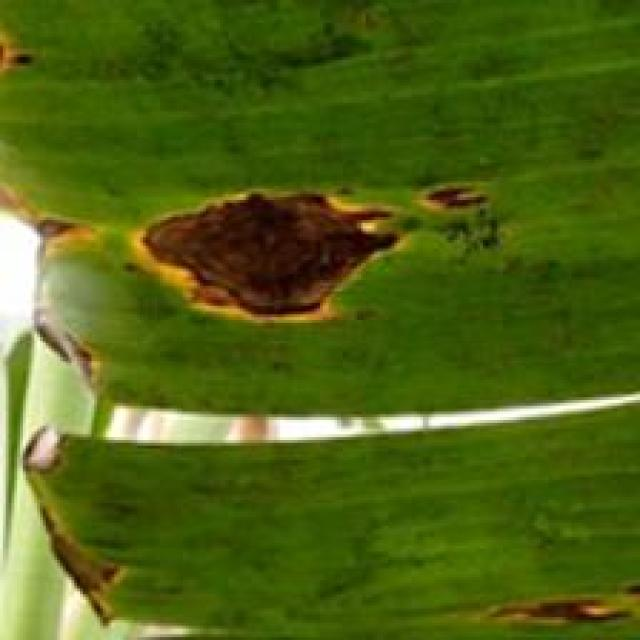Bacterial_spot: (124, 186, 408, 332), (19, 493, 127, 635), (462, 571, 640, 640), (0, 188, 110, 282), (401, 168, 536, 234), (24, 302, 100, 398), (16, 412, 102, 494), (0, 31, 54, 94)
